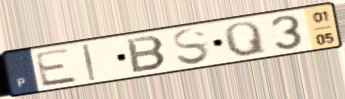3: (268, 14, 304, 52)
B: (125, 34, 170, 75)
E: (32, 46, 81, 89)
I: (80, 42, 98, 83)
Q: (222, 20, 270, 59)
S: (170, 26, 213, 67)
